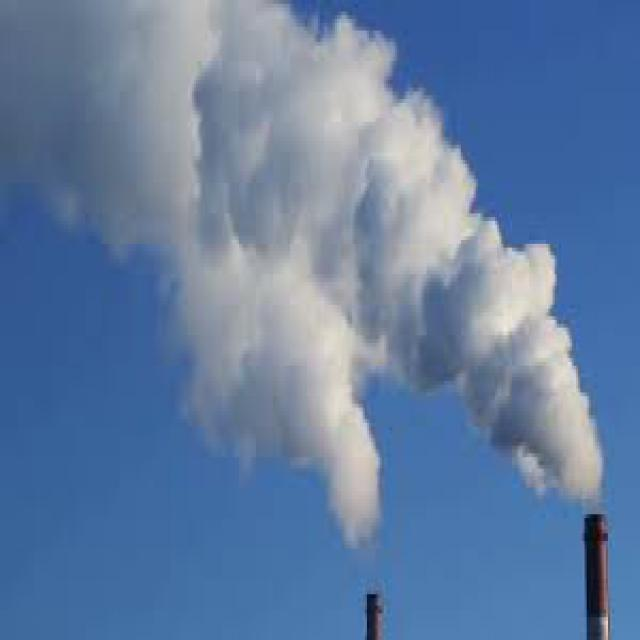smoke: (17, 3, 638, 510)
